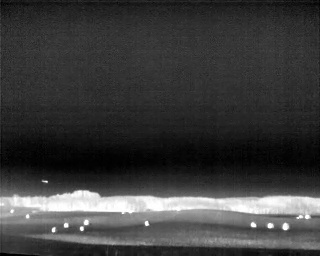AIRPLANE: (40, 177, 50, 186)
